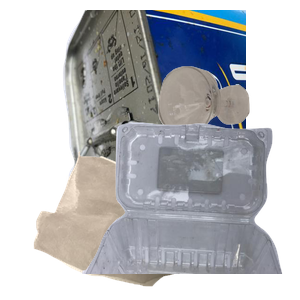glass: (156, 64, 300, 194)
metal: (60, 10, 300, 190)
plastic: (80, 120, 300, 300)
trash: (31, 149, 268, 300)
